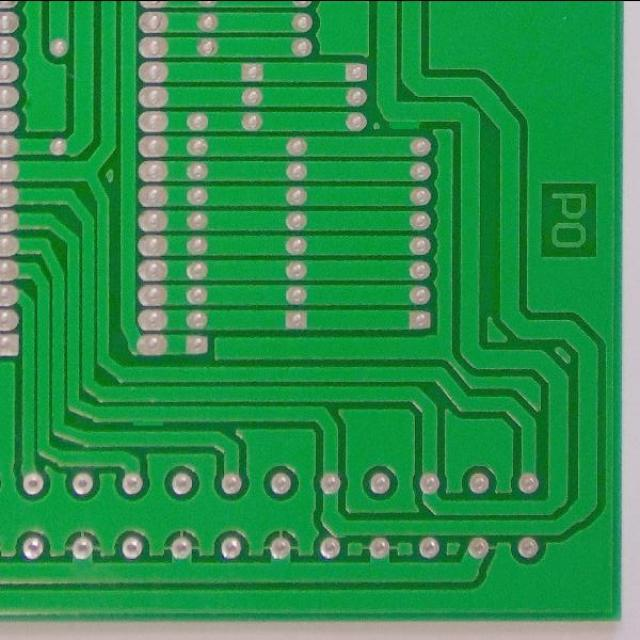Spur: (126, 402, 171, 431), (385, 118, 427, 134)
